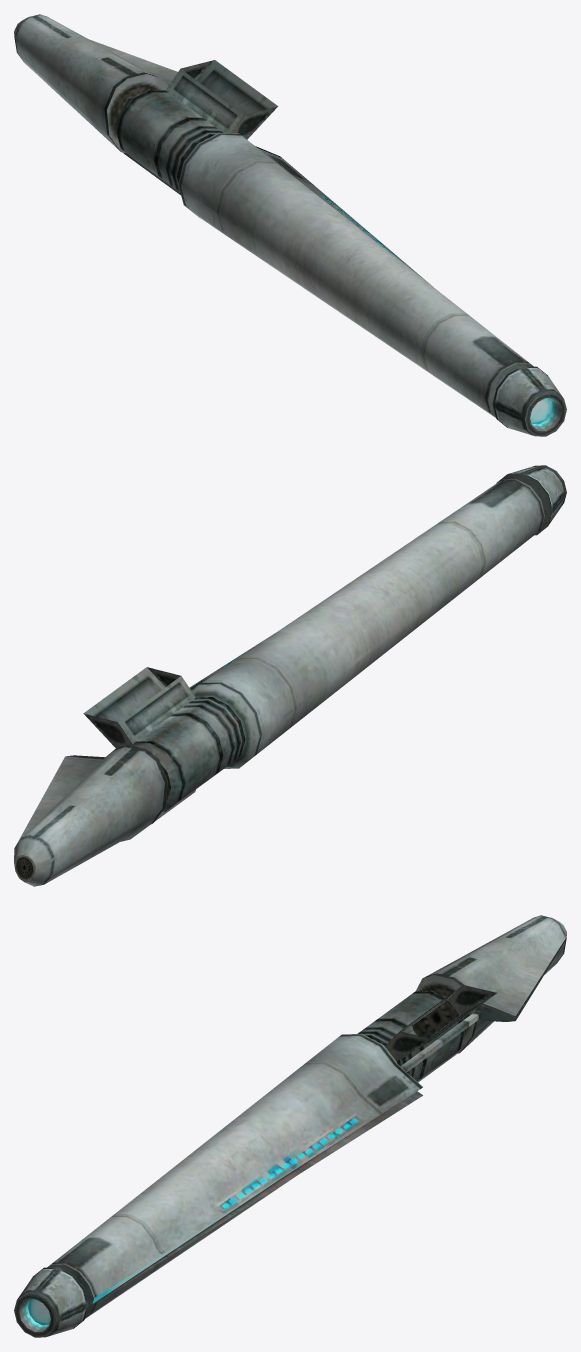
File: xwing_weapon2_neg_s02_l0.fbx
The picture shows the model from 3 angles, top to bottom: view 1: azimuth 30°, elevation 25°; view 2: azimuth 150°, elevation 25°; view 3: azimuth 330°, elevation 25°; orthographic projection.
Visible parts, largest first — view 1: mesh_node; view 2: mesh_node; view 3: mesh_node.
Part boxes in pixels (x1,y1,x2,y2): mesh_node: [14, 14, 566, 436]; mesh_node: [14, 465, 566, 886]; mesh_node: [14, 915, 566, 1337].
Bounding box in the file's own units: 0.3252 × 0.2637 × 2.67.
1 material, 1 textured.
